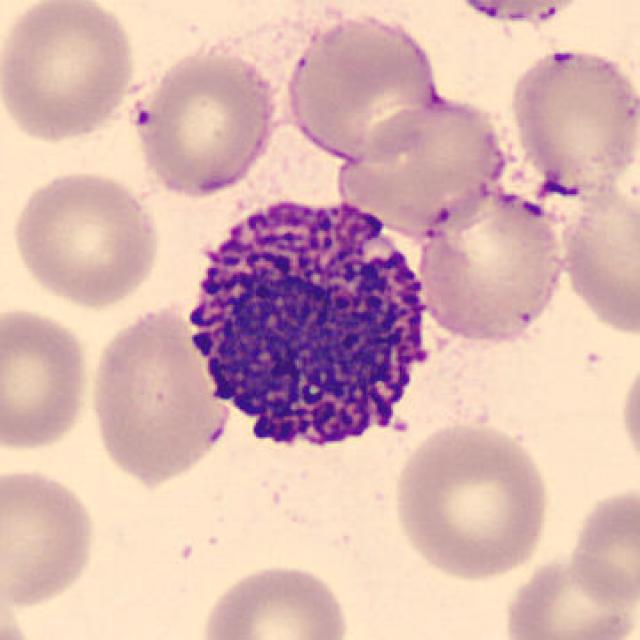Basophil: (172, 182, 457, 472)
RBC: (84, 298, 234, 488), (389, 420, 555, 584), (336, 92, 516, 238), (281, 7, 444, 166), (412, 184, 570, 348), (125, 42, 282, 201), (7, 166, 165, 310), (0, 0, 142, 145), (505, 44, 638, 189), (0, 463, 101, 610), (554, 169, 640, 338), (0, 301, 94, 455), (196, 559, 356, 640), (500, 550, 638, 640), (563, 481, 640, 611), (421, 0, 603, 30), (617, 347, 640, 476), (0, 582, 39, 640)
